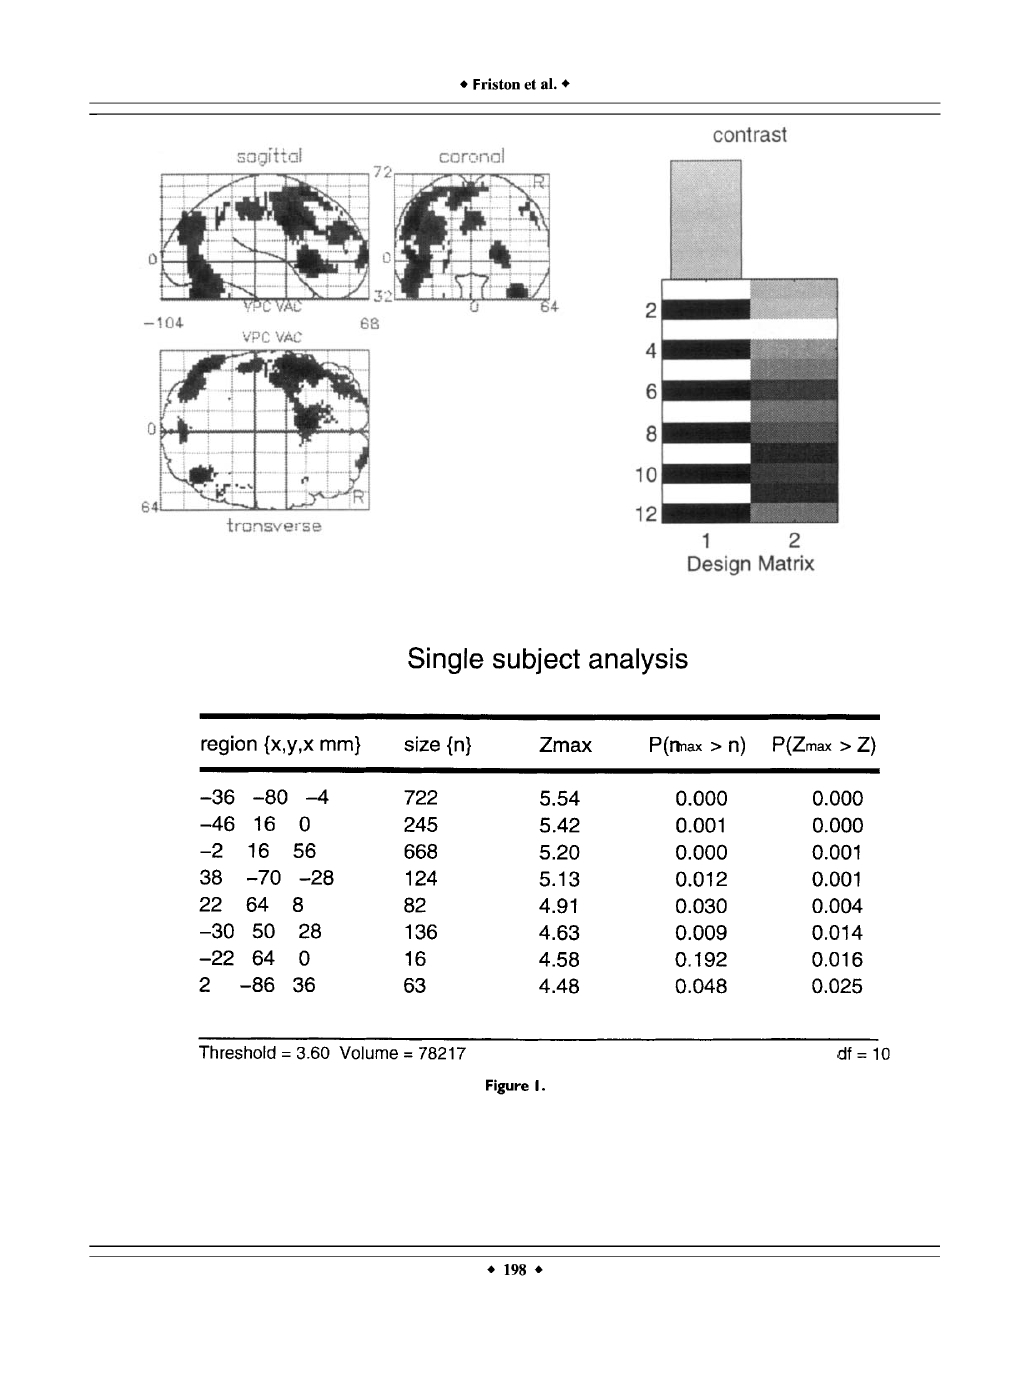Table: (198, 713, 889, 1059)
figure: (141, 147, 558, 532), (635, 126, 838, 575)
